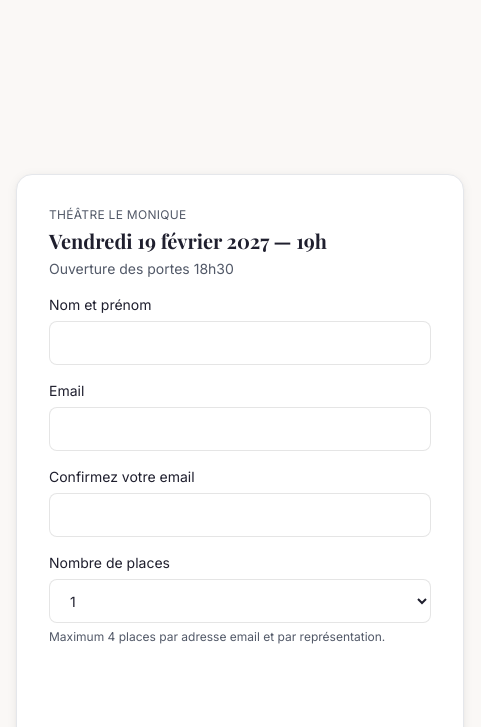
Test: success › omits the deadline sentence when linkExpiresAt is unparseable
The image size is (481, 727).
Earlier steps of the test are not shown.
(page scrolled)
Type "Jean Dupont" into the field labelled "Nom et prénom" at (240,343), box x1=49 y1=321 x2=431 y2=365
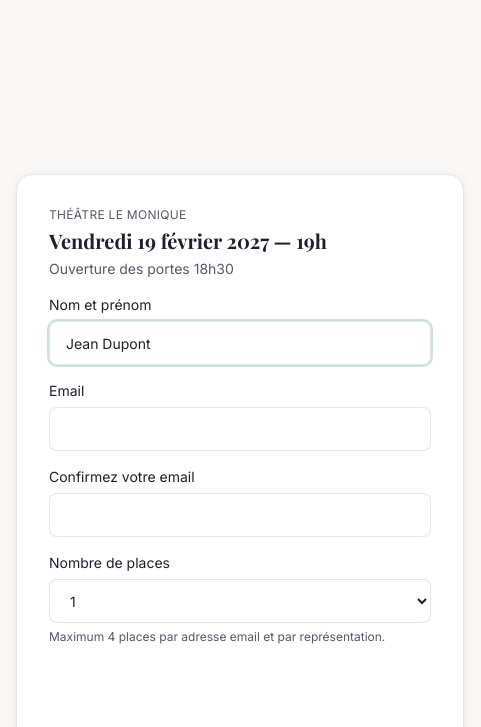
Type "jean@example.com" into the field labelled "Email" at (240,429), box x1=49 y1=407 x2=431 y2=451
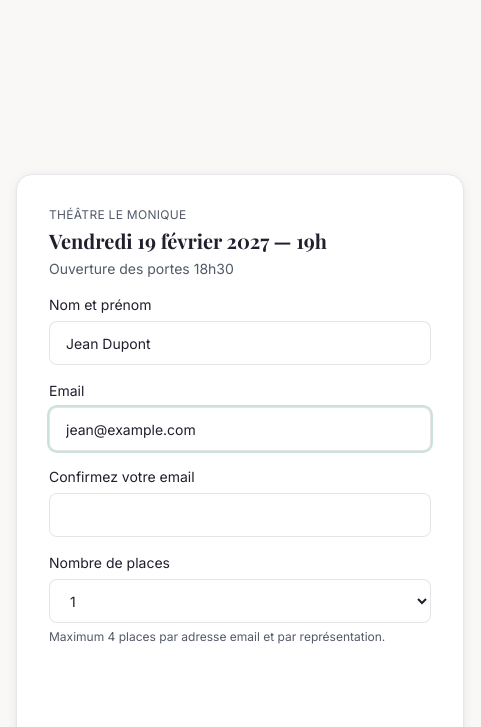
Type "jean@example.com" into the field labelled "Confirmez votre email" at (240,515), box x1=49 y1=493 x2=431 y2=537
(page scrolled)
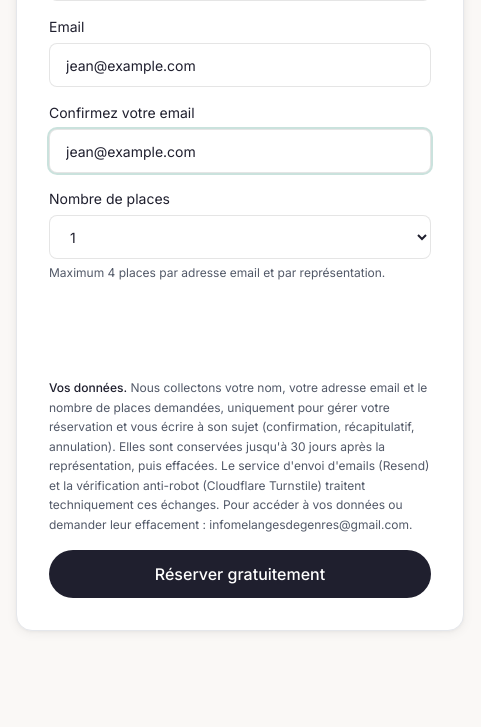
Click the button "Réserver gratuitement" at (240,574), box x1=49 y1=550 x2=431 y2=598
(page scrolled)
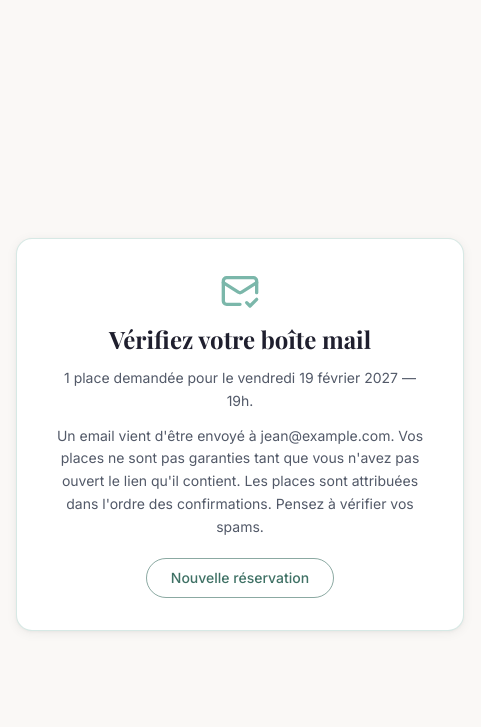
Now the heading "Vérifiez votre boîte mail" is shown, box x1=109 y1=323 x2=371 y2=355
Now the text "ne sont pas garanties" is shown, box x1=57 y1=426 x2=423 y2=534
Now the text "jean@example.com" is shown, box x1=57 y1=426 x2=423 y2=534
